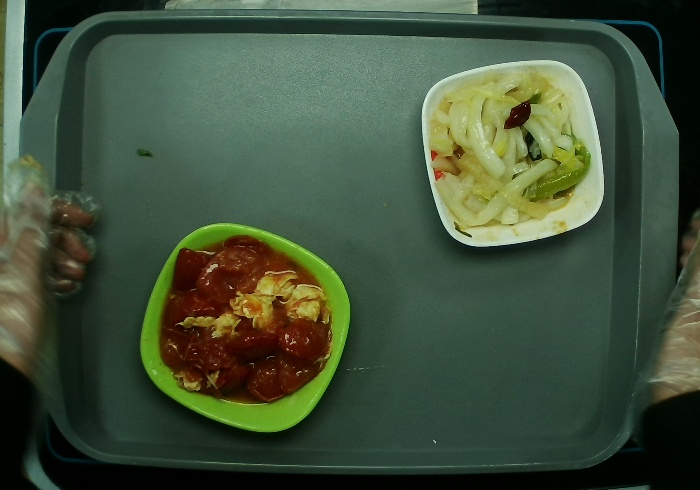SHKJ-Bai_Se_Xiao_Fang_Die: (416, 57, 608, 253)
SHKJ-Lv_Se_Cai_Die: (133, 221, 356, 435)
